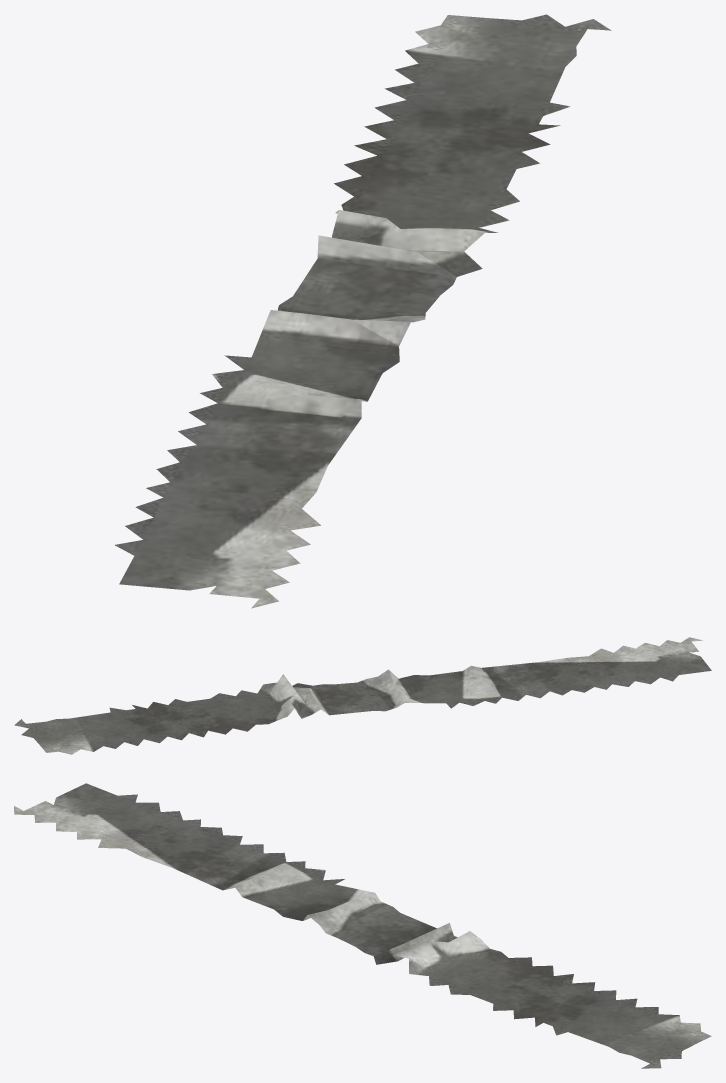
File: rag_sheet_strip_1_lod1_web.glb
3 renders of one model, top to bottom at view 1: azimuth 30°, elevation 25°; view 2: azimuth 150°, elevation 25°; view 3: azimuth 270°, elevation 25°, orthographic. The views are drawn at different scales.
Visible parts, largest first — view 1: rag_sheet_strip_1_Cloth; view 2: rag_sheet_strip_1_Cloth; view 3: rag_sheet_strip_1_Cloth.
Part boxes in pixels (left/top/right/bottom): rag_sheet_strip_1_Cloth: left=115, top=14, right=611, bottom=608; rag_sheet_strip_1_Cloth: left=14, top=637, right=711, bottom=754; rag_sheet_strip_1_Cloth: left=14, top=783, right=711, bottom=1068.
Bounding box in the file's own units: 0.7101 × 0.0183 × 0.7339.
1 material, 1 textured.
